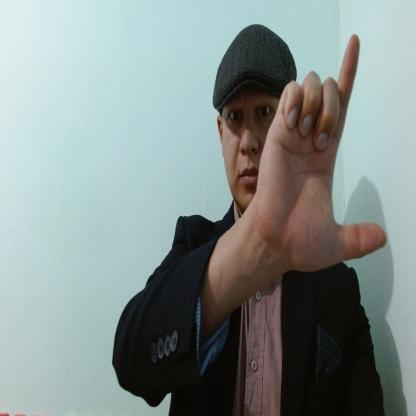L: (258, 35, 386, 267)
